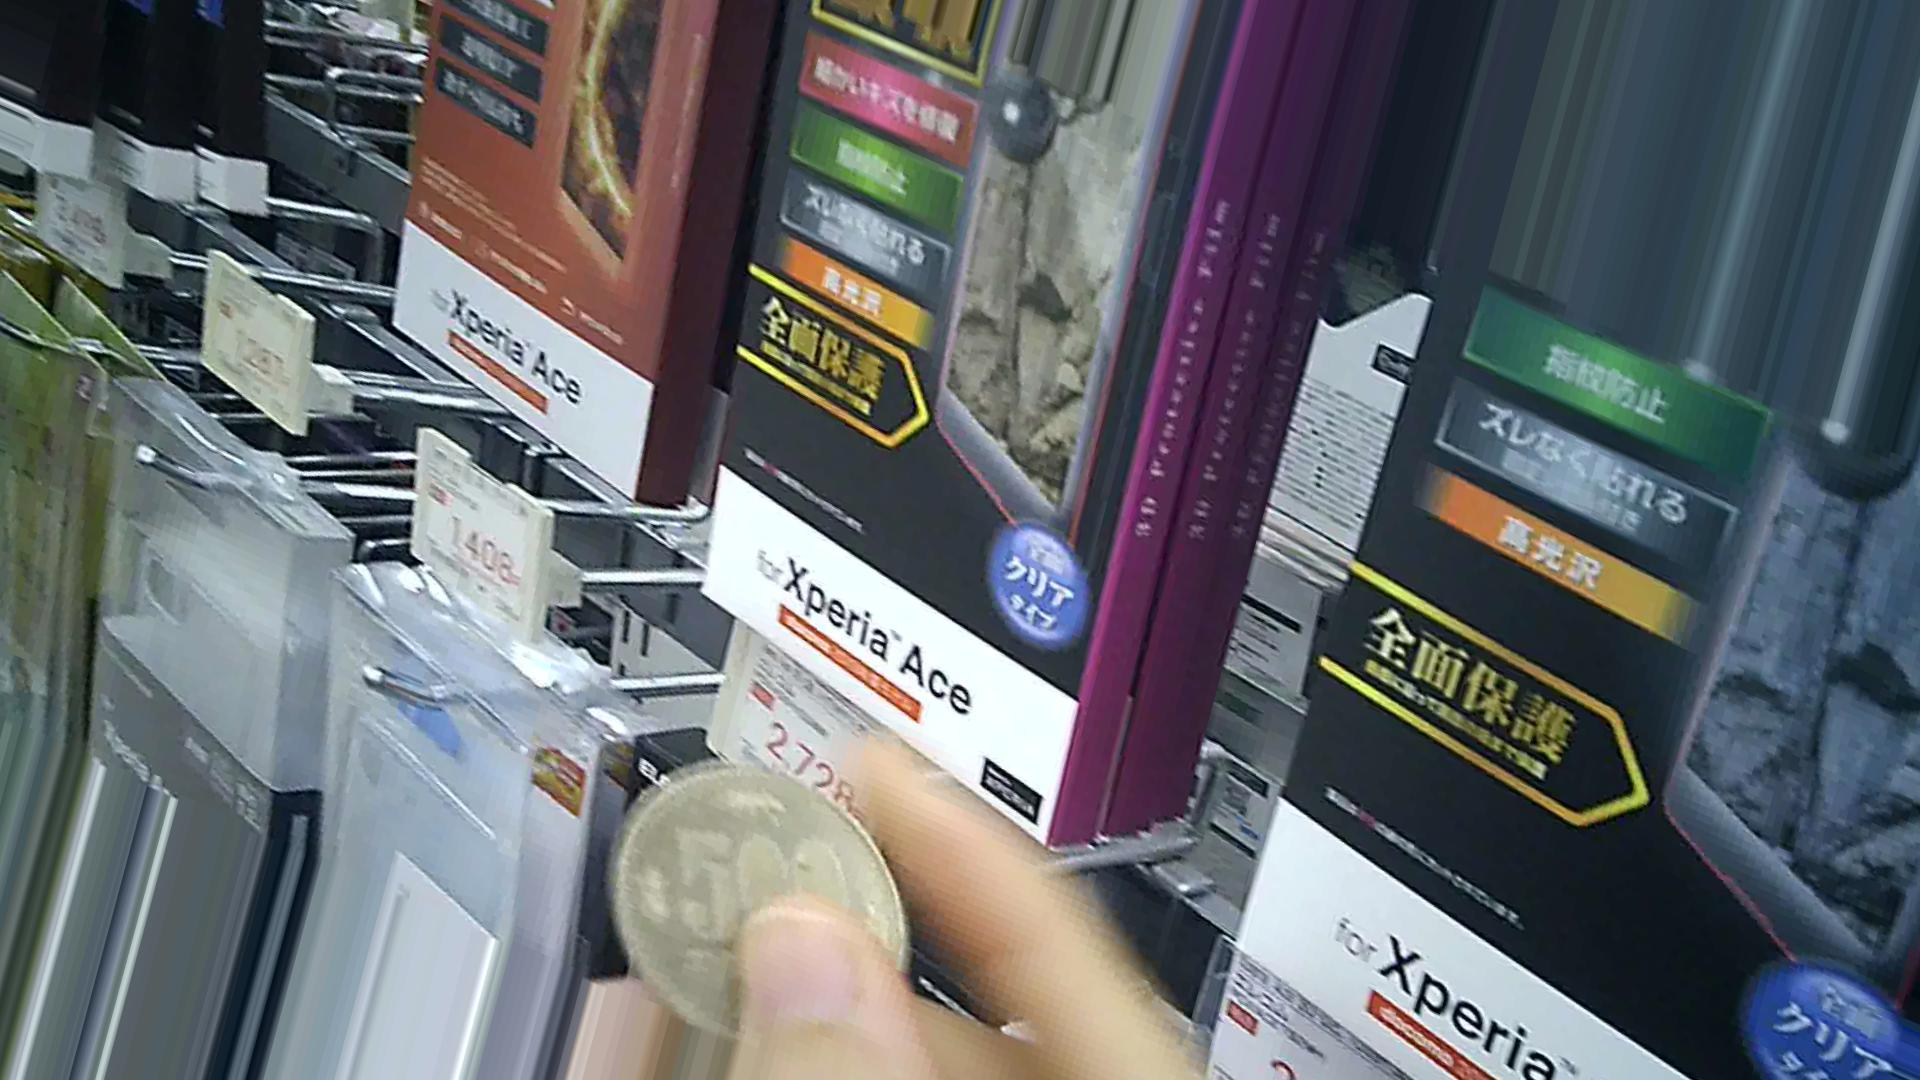500 Yen: (593, 752, 894, 1044)
